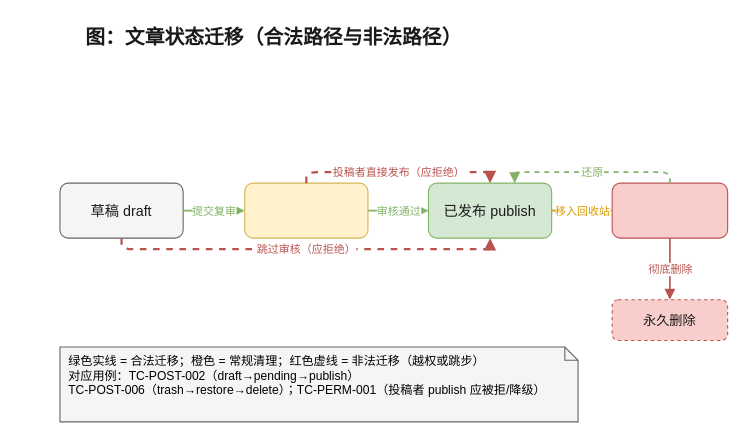
Image size: 747x441. Some labels were removed from this diagram. Each missing label, with the centre of its shape:
"回收站 trash" goes at (669,210).
"待审 pending" goes at (306,210).
